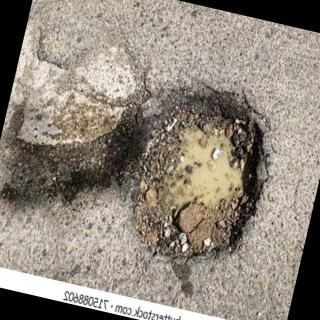pothole: (136, 93, 267, 256)
